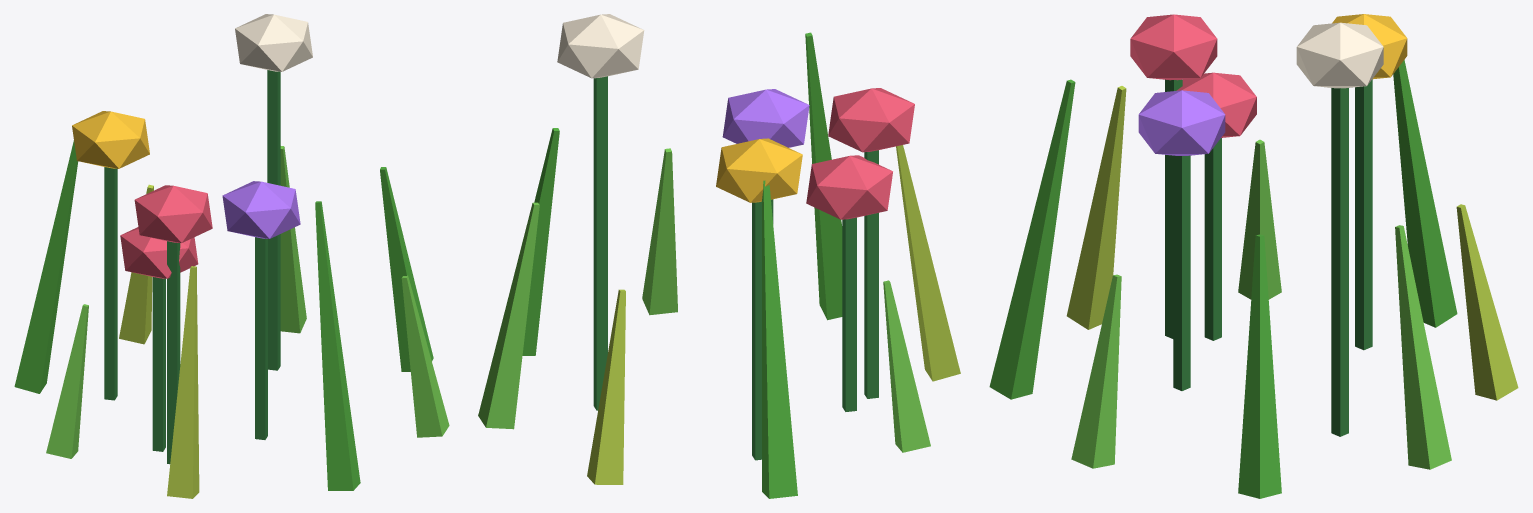
The model's file is hd_flowers.gltf.
The picture shows the model from 3 angles, left to right: view 1: azimuth 30°, elevation 25°; view 2: azimuth 150°, elevation 25°; view 3: azimuth 270°, elevation 25°; orthographic projection. The views are drawn at different scales.
Visible parts, largest first — view 1: blade6, blade3, blade5, head4, head2, head1, head3, blade7, stem3, stem1, blade4, blade0 (+6 smaller); view 2: blade3, blade1, blade5, stem3, blade6, blade2, head0, head4, head3, head1, head2, blade7 (+5 smaller); view 3: blade6, blade3, blade0, blade1, blade5, stem3, blade2, blade7, head3, head4, head2, stem1 (+6 smaller).
Part boxes in pixels (left/top/right/bottom): blade6: left=315, top=201, right=360, bottom=490; blade3: left=14, top=140, right=78, bottom=393; blade5: left=167, top=266, right=199, bottom=498; head4: left=134, top=185, right=212, bottom=242; head2: left=222, top=181, right=300, bottom=238; head1: left=72, top=111, right=149, bottom=168; head3: left=235, top=14, right=312, bottom=71; blade7: left=401, top=275, right=449, bottom=437; stem3: left=267, top=70, right=280, bottom=370; stem1: left=104, top=167, right=117, bottom=400; blade4: left=46, top=304, right=88, bottom=458; blade0: left=380, top=167, right=433, bottom=371; blade3: left=762, top=180, right=797, bottom=498; blade1: left=478, top=202, right=539, bottom=429; blade5: left=896, top=145, right=960, bottom=381; stem3: left=593, top=76, right=607, bottom=410; blade6: left=805, top=32, right=842, bottom=320; blade2: left=587, top=289, right=625, bottom=484; head0: left=806, top=155, right=892, bottom=219; head4: left=828, top=88, right=914, bottom=152; head3: left=557, top=14, right=644, bottom=78; head1: left=716, top=138, right=802, bottom=202; head2: left=722, top=89, right=809, bottom=147; blade7: left=642, top=148, right=677, bottom=315; blade6: left=989, top=79, right=1075, bottom=399; blade3: left=1393, top=60, right=1457, bottom=327; blade0: left=1238, top=234, right=1281, bottom=498; blade1: left=1395, top=225, right=1451, bottom=469; blade5: left=1066, top=86, right=1126, bottom=329; stem3: left=1331, top=88, right=1348, bottom=436; blade2: left=1456, top=204, right=1518, bottom=400; blade7: left=1071, top=274, right=1121, bottom=468; head3: left=1296, top=22, right=1383, bottom=88; head4: left=1130, top=14, right=1217, bottom=80; head2: left=1138, top=90, right=1225, bottom=155; stem1: left=1355, top=79, right=1372, bottom=350.
Bounding box in the file's own units: 0.7127 × 0.6243 × 0.725.
